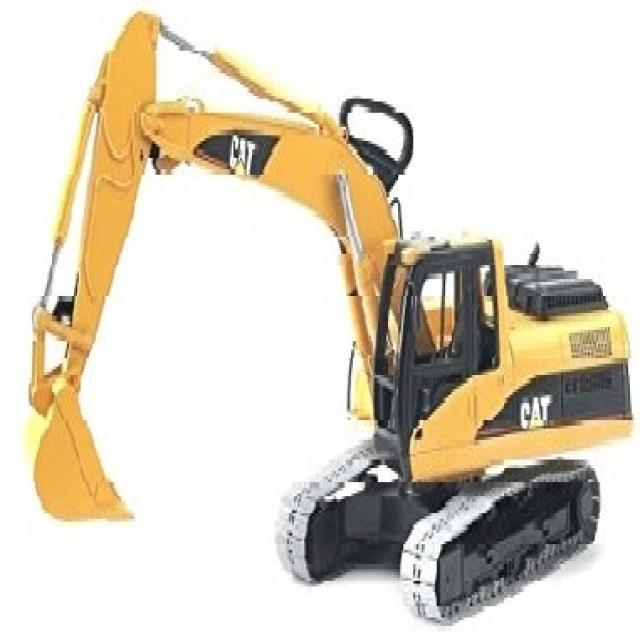excavator: (18, 15, 633, 620)
